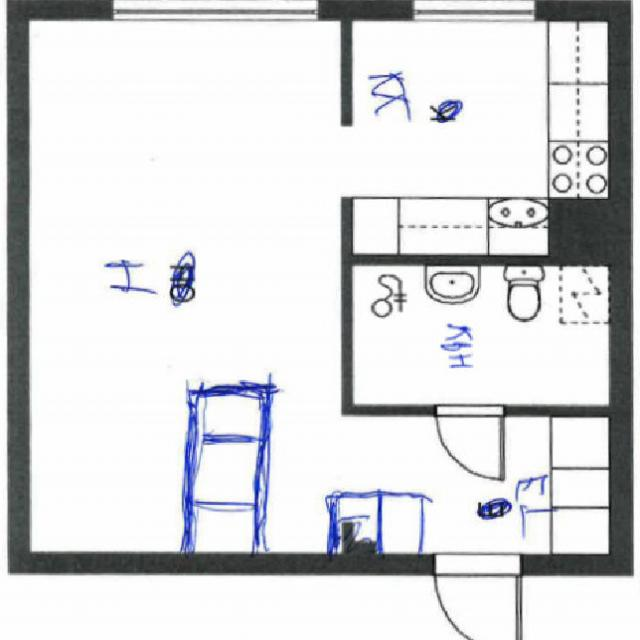door: (437, 552, 519, 640), (437, 404, 503, 478)
